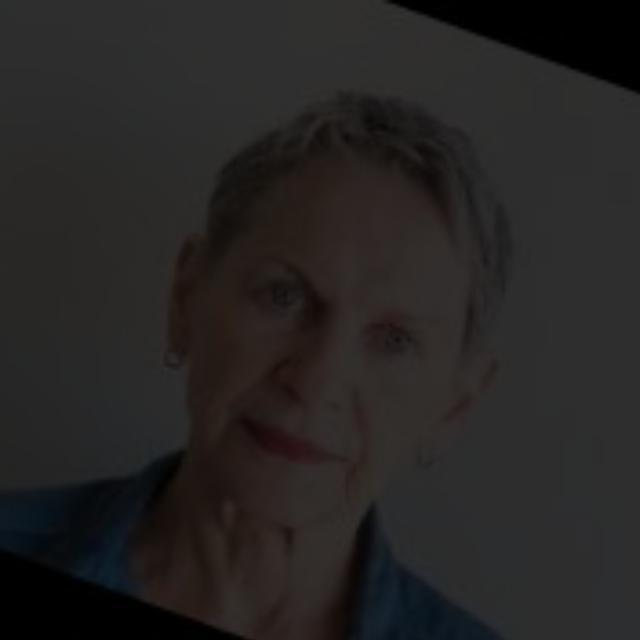Natural: (145, 132, 506, 515)
